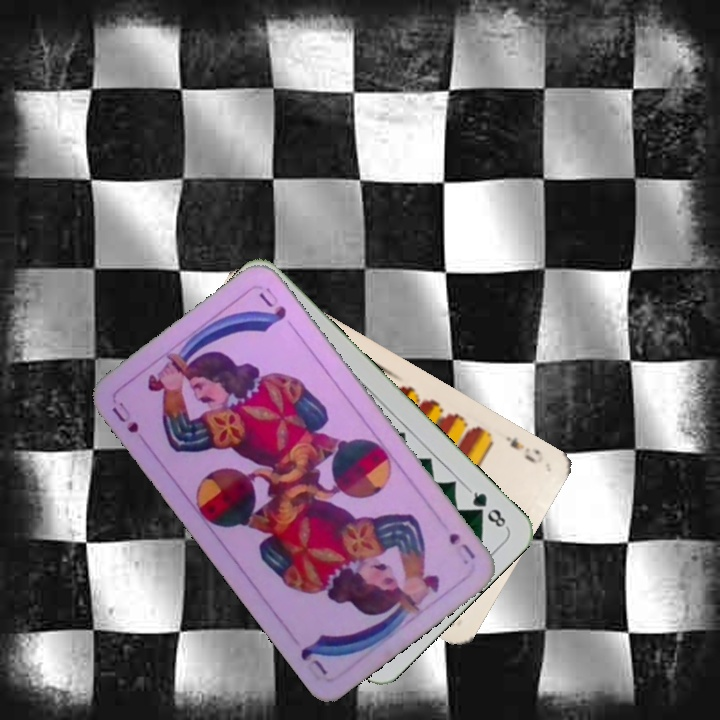E9: (501, 432, 538, 466)
G8: (464, 485, 510, 531)
SU: (107, 398, 151, 448), (444, 528, 478, 568)
